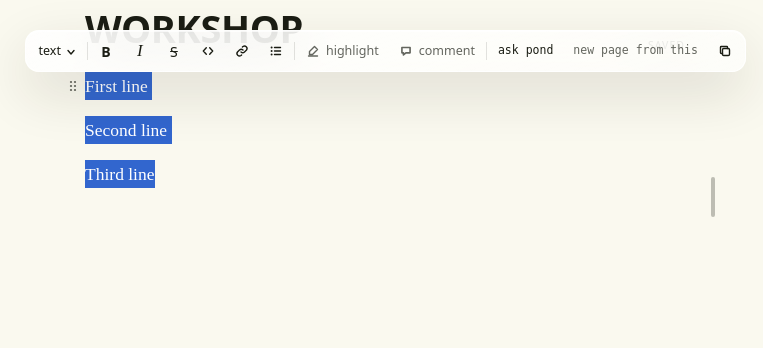
Test: choosing a style after ⌘A select-all over multiple lines › converts every line to h2 and keeps the selection and the bar up
The width and height of the screenshot is (763, 348).
Click the button "text" at {"x": 57, "y": 51}, box [30, 35, 85, 67]
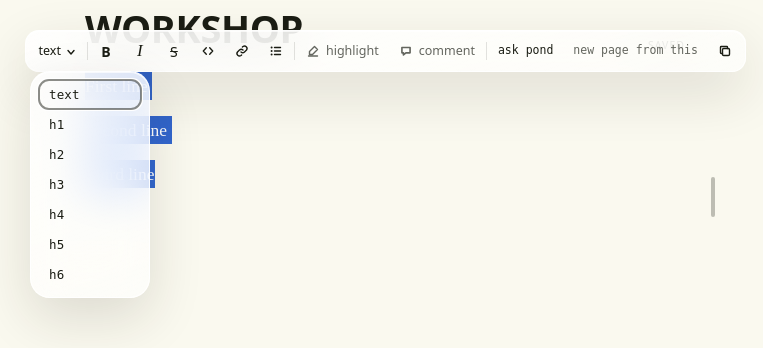
Click the menu item "h2" at {"x": 90, "y": 154}, box [38, 140, 140, 169]
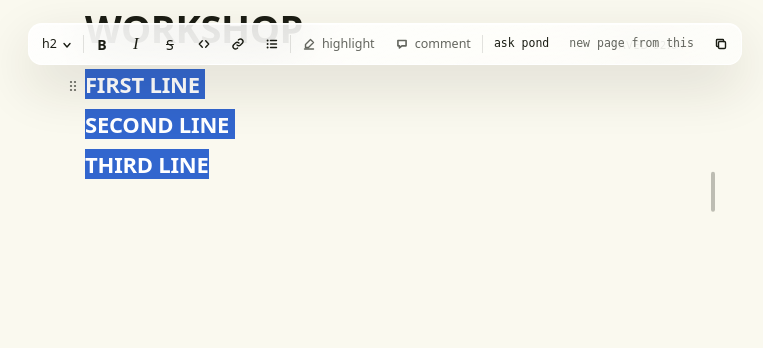
expect the number of headings is 3: met, box [85, 69, 200, 99]; [85, 109, 229, 139]; [85, 149, 209, 179]
expect the text box is gone: met
